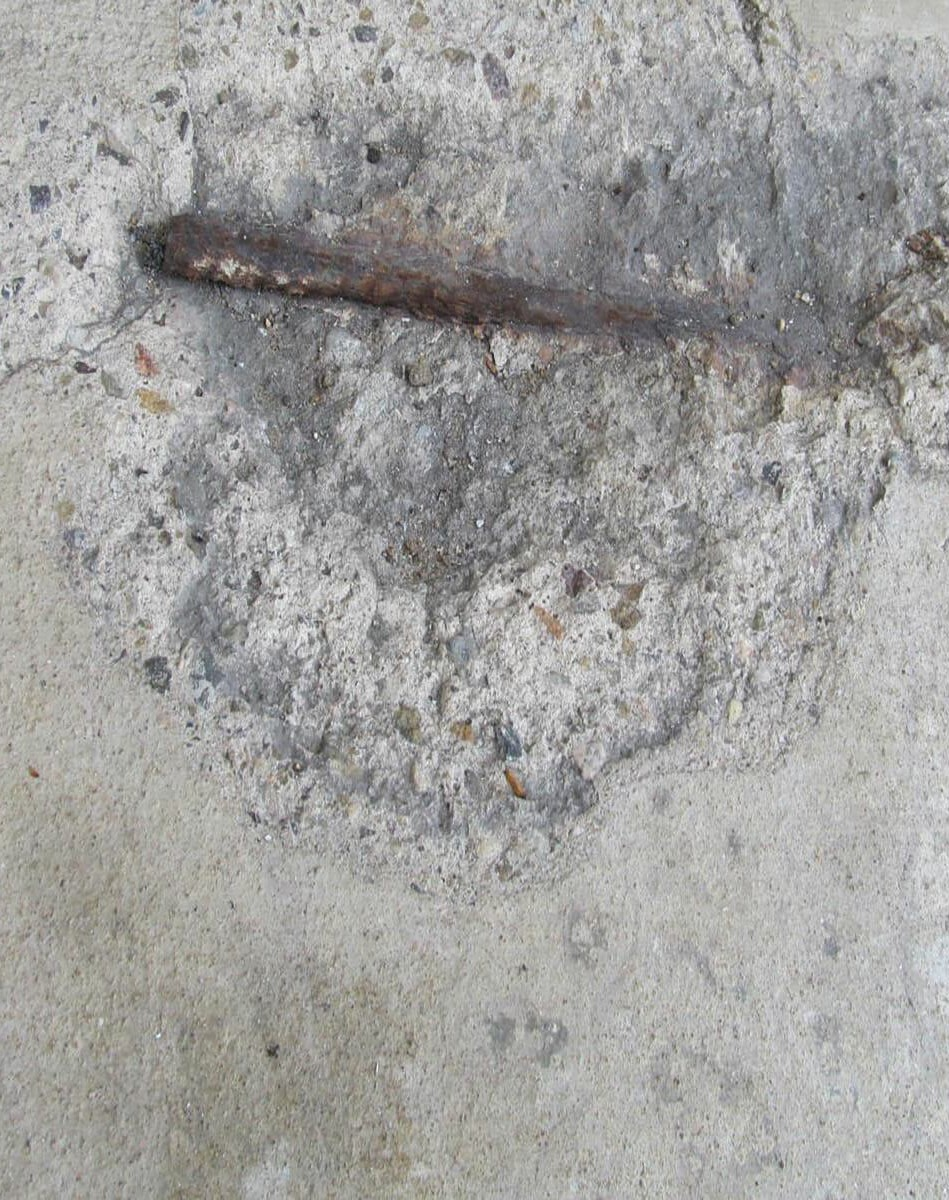Exposed reinforcement: (156, 223, 781, 349)
Spalling: (1, 1, 949, 902)
